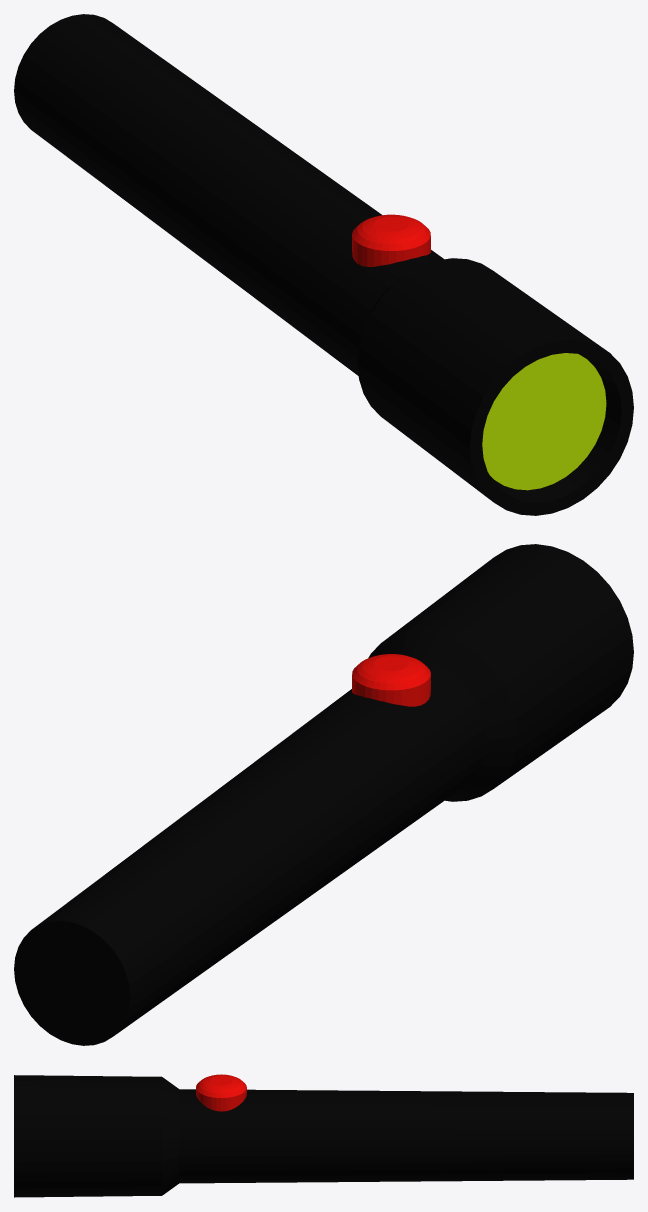
File: FlashLight.fbx
3 views of the same model, one above another, from view 1: azimuth 30°, elevation 25°; view 2: azimuth 150°, elevation 25°; view 3: azimuth 270°, elevation 25° (orthographic). The views are drawn at different scales.
Parts seen in each view (by area): view 1: FlashLight; view 2: FlashLight; view 3: FlashLight.
Boxes of the visible parts, x1=… form: FlashLight: x1=14, y1=14, x2=633, y2=515; FlashLight: x1=14, y1=544, x2=633, y2=1045; FlashLight: x1=14, y1=1074, x2=633, y2=1197.
Bounding box in the file's own units: 96.27 × 96.29 × 487.
